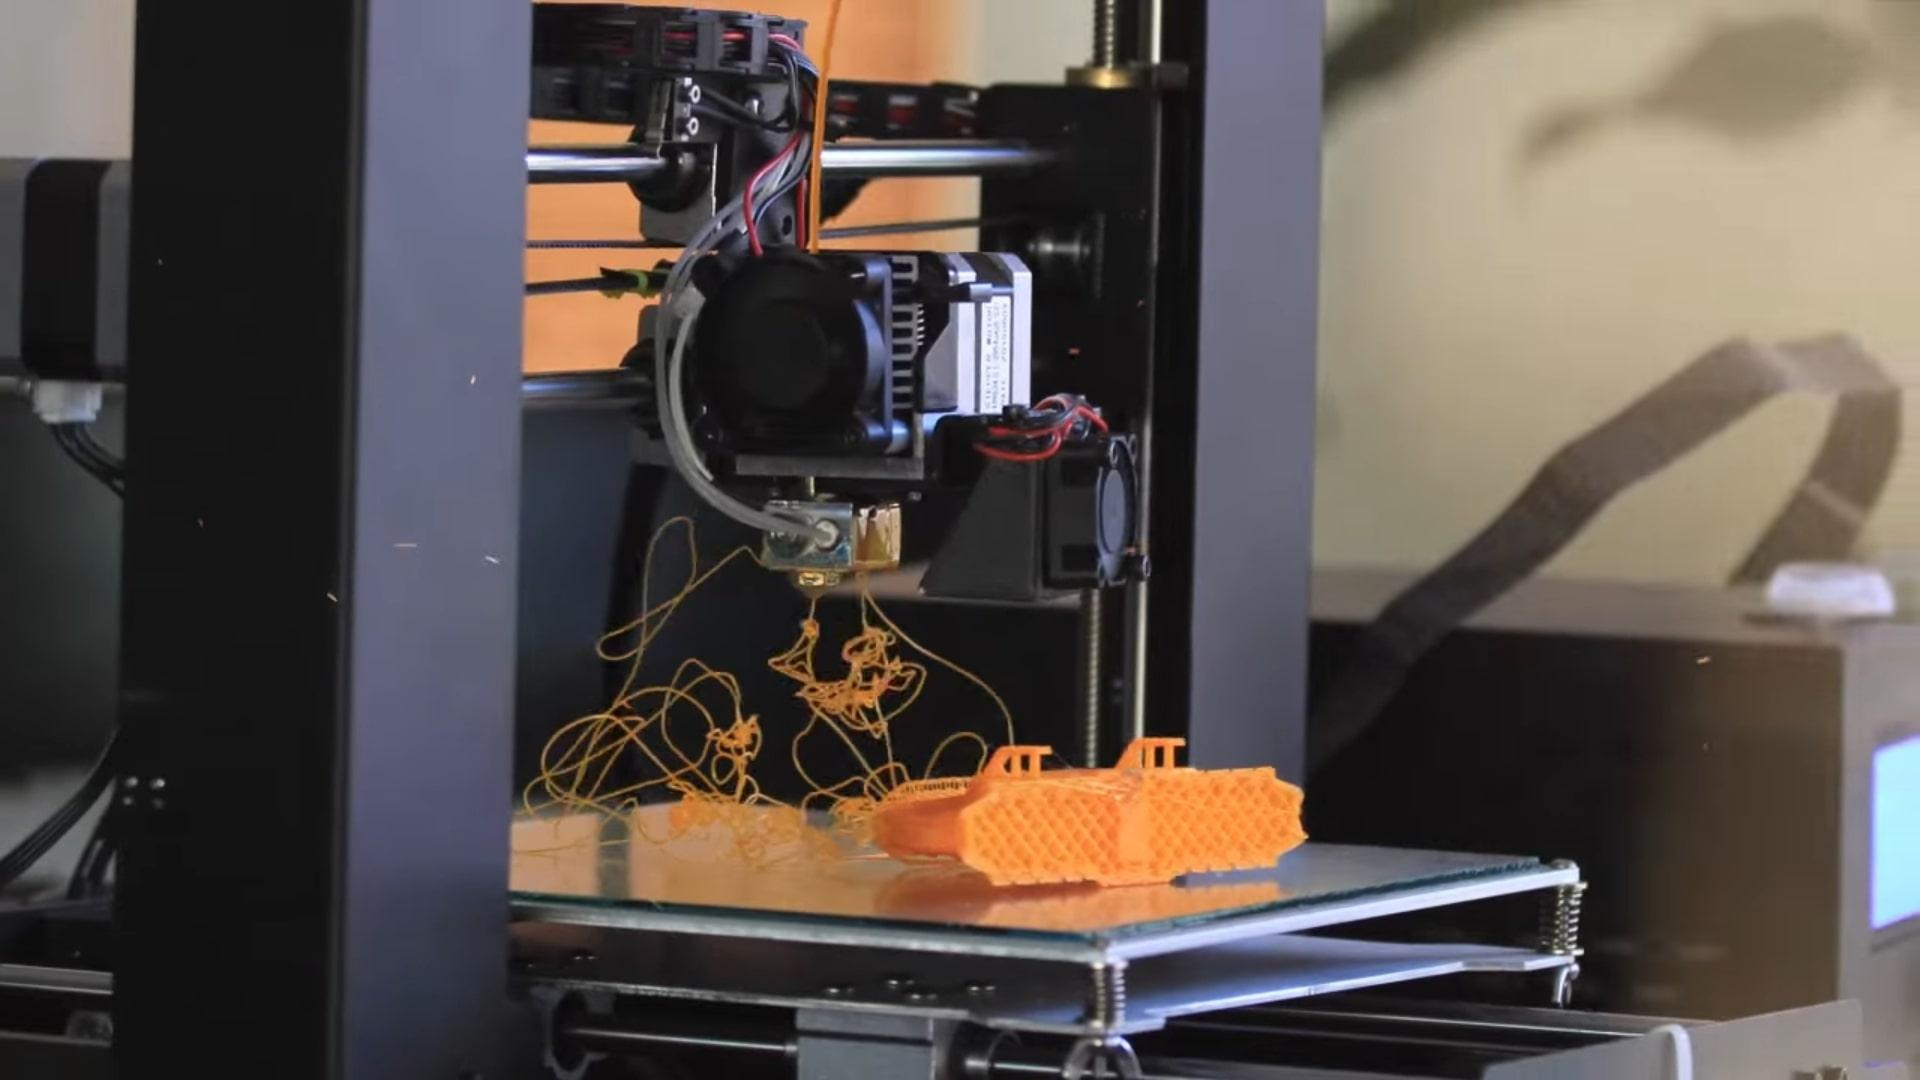Printing-Artifact: (570, 539, 944, 868)
